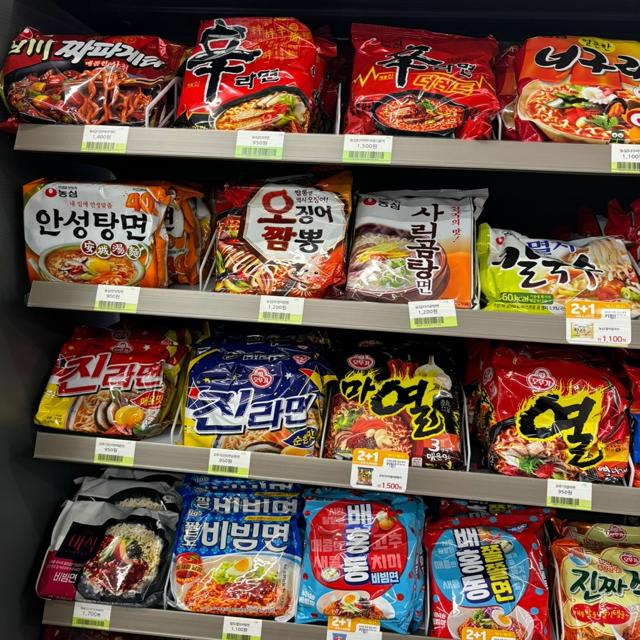product: (483, 355, 628, 486), (348, 24, 501, 145), (331, 347, 466, 477), (186, 336, 323, 460), (15, 35, 183, 135), (422, 511, 551, 639), (183, 21, 319, 139), (207, 185, 351, 296), (39, 332, 176, 447), (169, 504, 304, 615), (514, 37, 640, 153), (303, 503, 414, 633), (356, 196, 485, 306), (26, 185, 161, 290), (478, 227, 640, 311), (43, 480, 165, 590), (559, 545, 639, 640)
